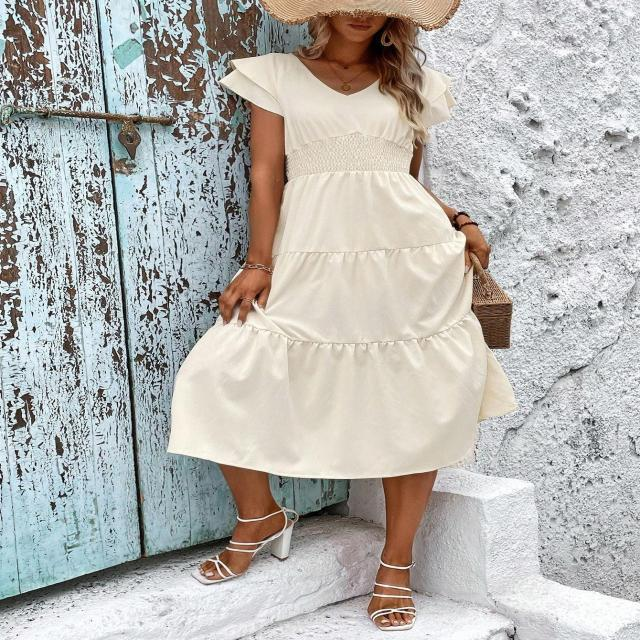Earring: (380, 28, 396, 50)
